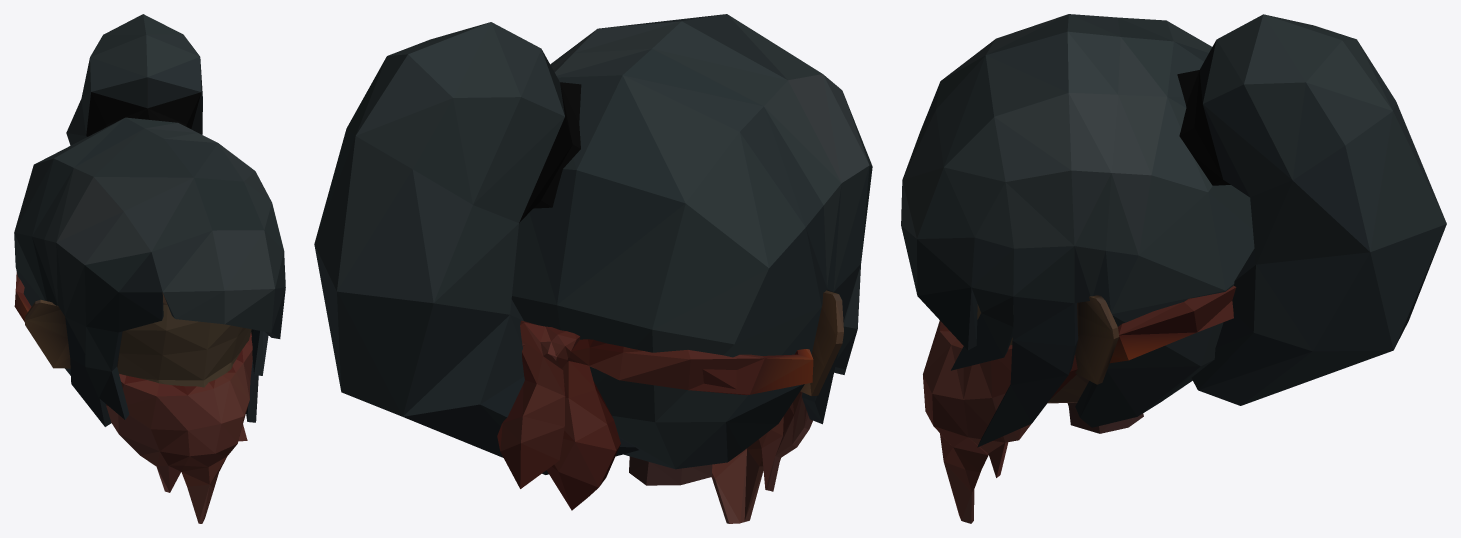
The model's file is helm_darkskin_ponytail_black_bandana.fbx.
The picture shows the model from 3 angles, left to right: view 1: azimuth 30°, elevation 25°; view 2: azimuth 150°, elevation 25°; view 3: azimuth 270°, elevation 25°; orthographic projection. The views are drawn at different scales.
Visible parts, largest first — view 1: helm_darkskin_ponytail_black_bandana; view 2: helm_darkskin_ponytail_black_bandana; view 3: helm_darkskin_ponytail_black_bandana.
Part boxes in pixels (<box>): helm_darkskin_ponytail_black_bandana: <box>14,14,285,523</box>; helm_darkskin_ponytail_black_bandana: <box>314,14,872,523</box>; helm_darkskin_ponytail_black_bandana: <box>901,14,1446,523</box>.
Bounding box in the file's own units: 1.21 × 1.8 × 1.64.
